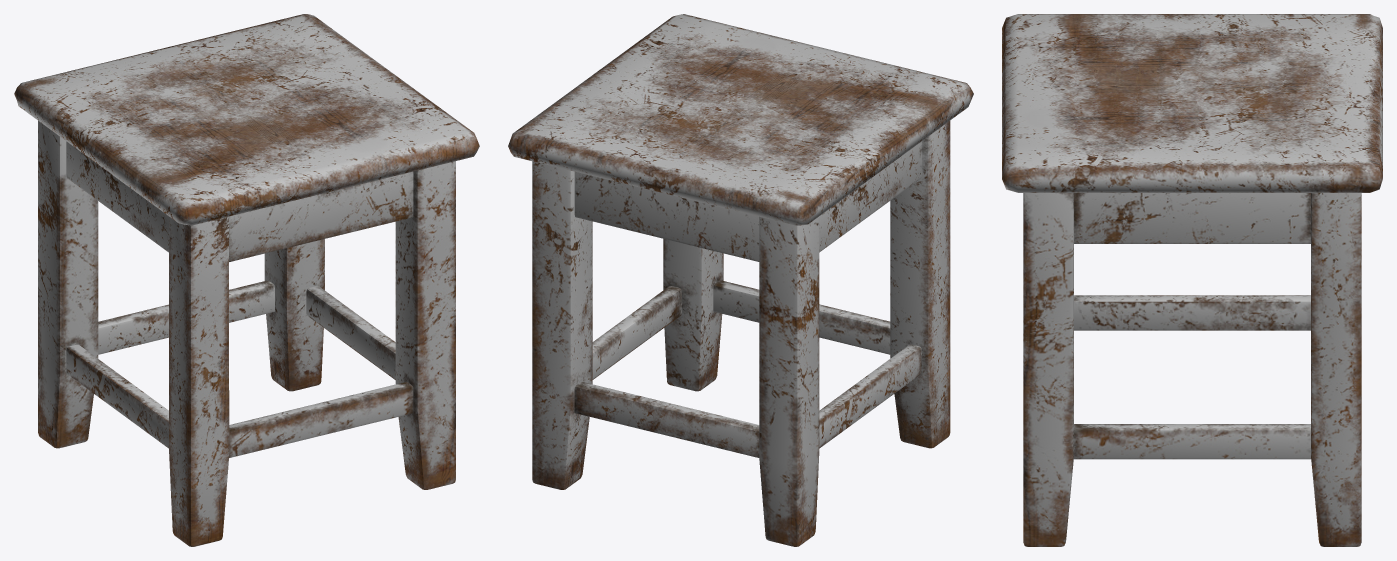
The model's file is tabur.glb.
3 views of the same model, side by side, from view 1: azimuth 30°, elevation 25°; view 2: azimuth 150°, elevation 25°; view 3: azimuth 270°, elevation 25° (orthographic). The views are drawn at different scales.
Parts seen in each view (by area): view 1: Assembly-2; view 2: Assembly-2; view 3: Assembly-2.
Boxes of the visible parts, left/top/right/bottom form: Assembly-2: left=14, top=14, right=479, bottom=546; Assembly-2: left=508, top=14, right=973, bottom=546; Assembly-2: left=1002, top=14, right=1382, bottom=546.
Size of the model in its own units: 0.45 by 0.505 by 0.45.
Materials: 1 (1 with a texture image).
